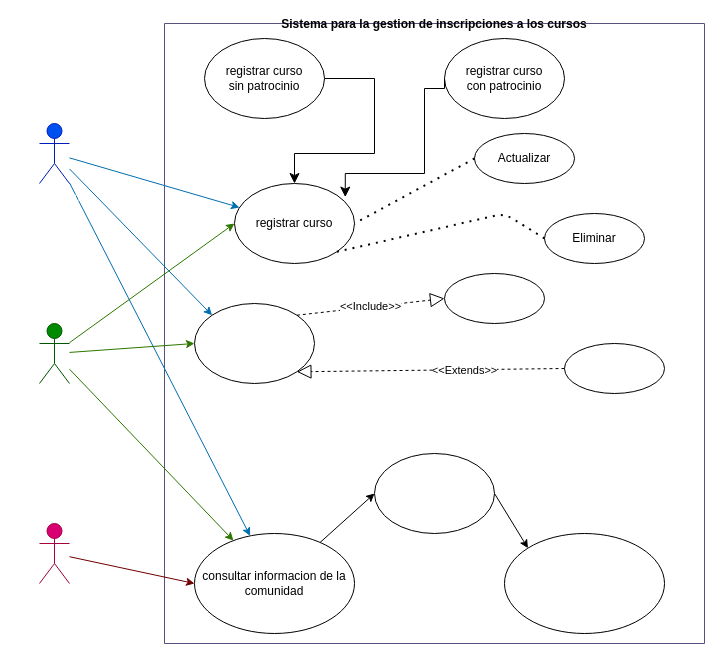
Some shapes in this 722 by 661 pixel diagram are drawn without their labels. Here are the shapes that lost their labels. From the top down, the centre of each, then its label:
At [494,298]: "verificar contracena".
At [254,343]: "Iniciar de session".
At [614,368]: "desplegar error".
At [434,493]: "Consultar cursos".
At [584,583]: "Consultar programacion establecida del curso".
